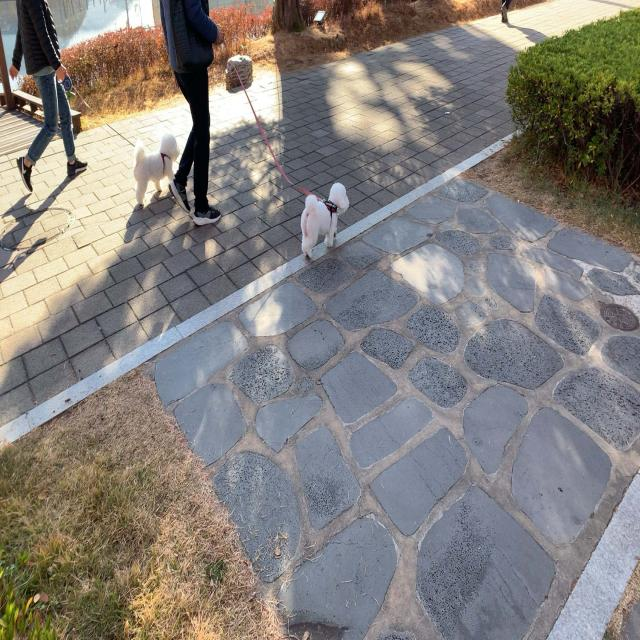Leashed_Dog: (190, 9, 350, 259), (41, 30, 180, 205)
